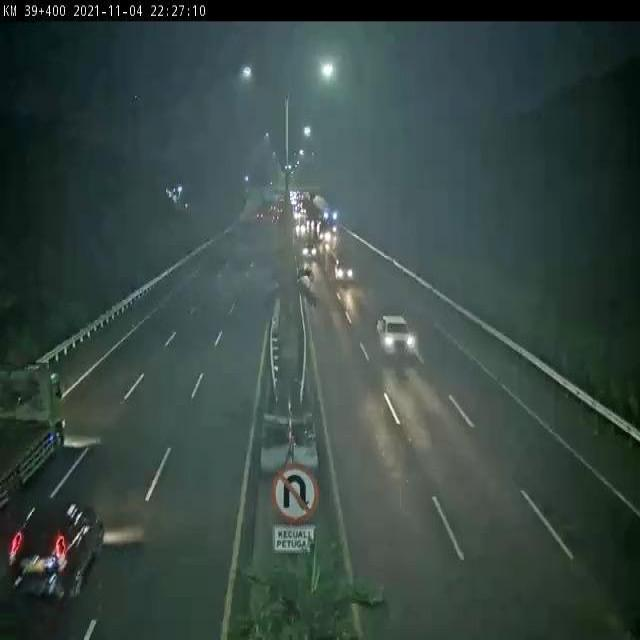car: (10, 499, 103, 597), (376, 312, 412, 356), (332, 258, 353, 282)
truck-m-: (0, 366, 66, 510)
